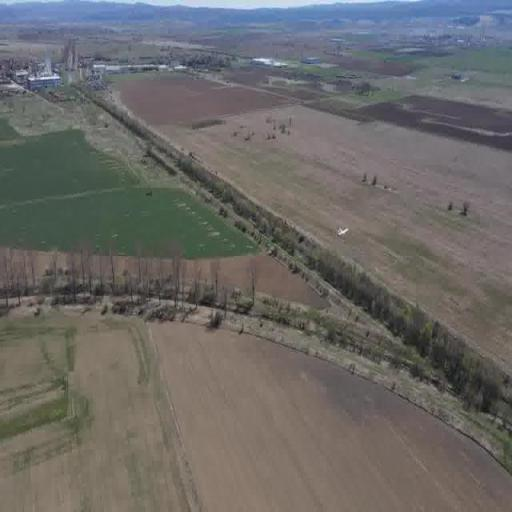uav: (334, 221, 350, 243)
